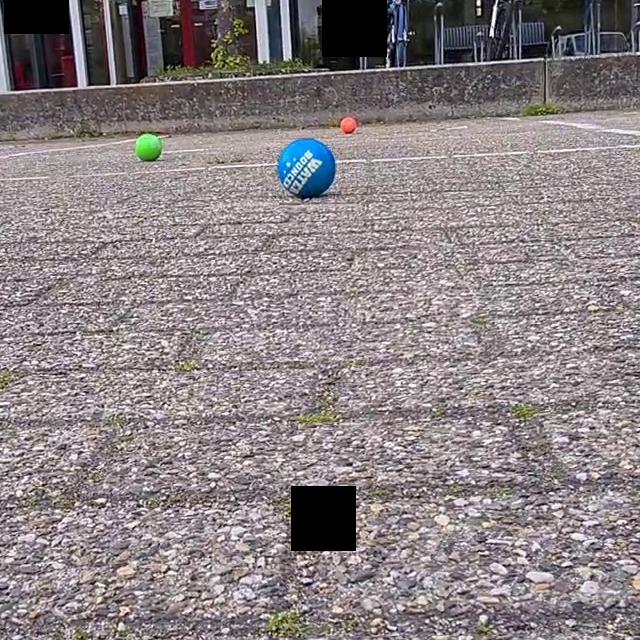ball: (132, 130, 164, 167), (339, 113, 359, 137)
